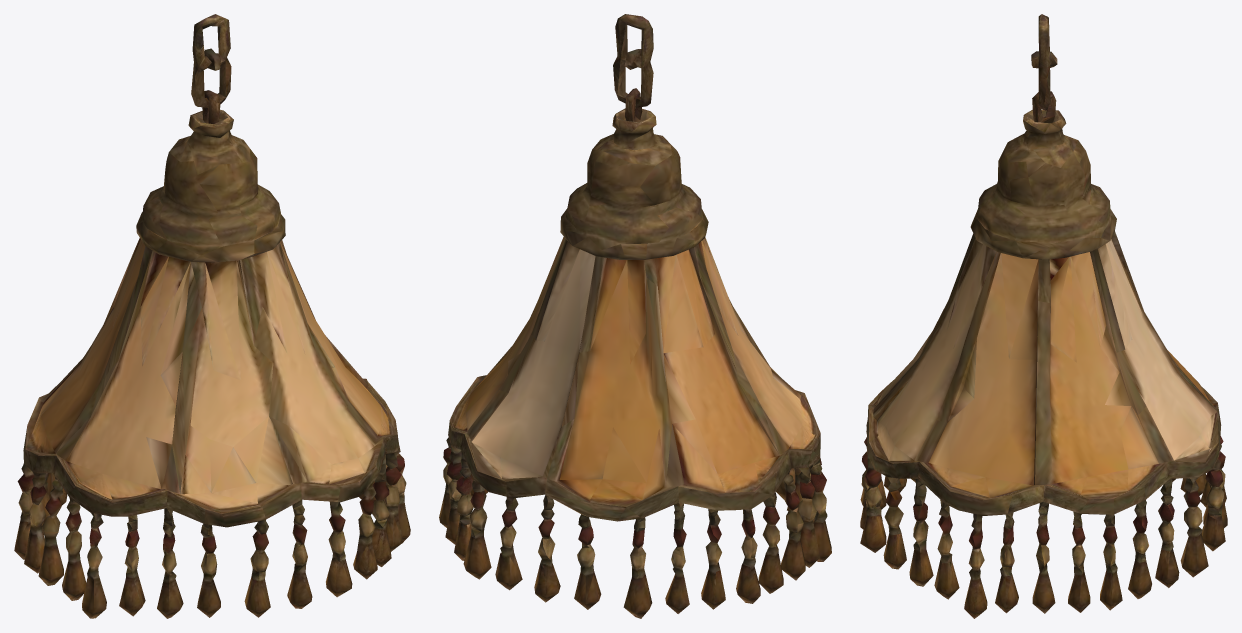
Rendered from h_pendant_shade.glb.
3 renders of one model, left to right at view 1: azimuth 30°, elevation 25°; view 2: azimuth 150°, elevation 25°; view 3: azimuth 270°, elevation 25°, orthographic. The views are drawn at different scales.
Visible parts, largest first — view 1: h_pendant_shade; view 2: h_pendant_shade; view 3: h_pendant_shade.
Part boxes in pixels (bbox=[...]): h_pendant_shade: bbox=[14, 14, 410, 618]; h_pendant_shade: bbox=[439, 14, 831, 618]; h_pendant_shade: bbox=[860, 14, 1227, 618].
Size of the model in its own units: 0.2809 by 0.42 by 0.2648.
Materials: 1 (1 with a texture image).
